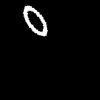chain: (23, 6, 46, 35)
